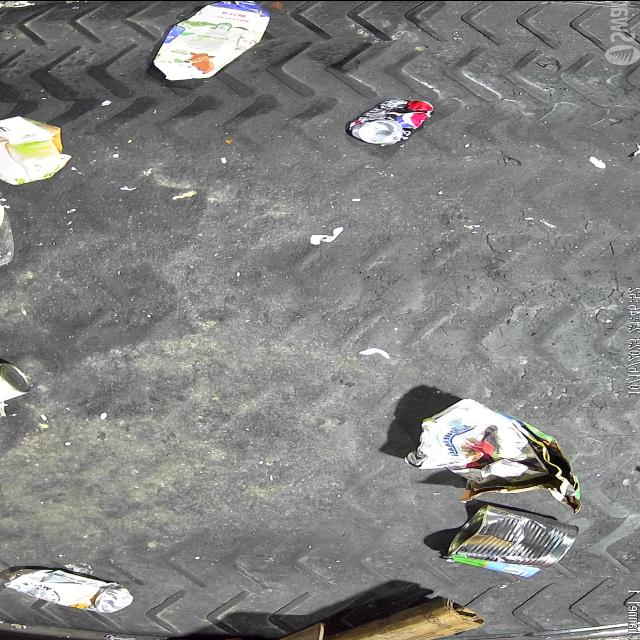can: (447, 502, 581, 568), (3, 568, 135, 612), (347, 98, 433, 144), (0, 362, 30, 409)
non_white_jug: (153, 0, 271, 80), (0, 116, 73, 186)
plastic_bottle: (0, 172, 15, 280)
